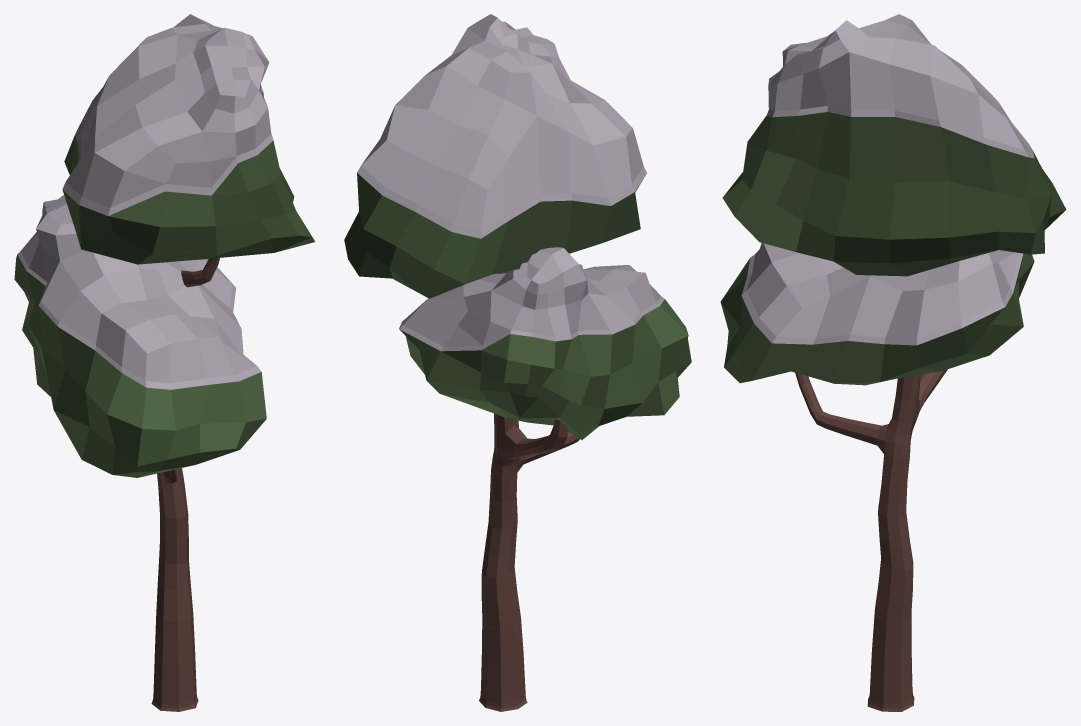
Rendered from CommonTree_Snow_3.gltf.
3 views of the same model, side by side, from view 1: azimuth 30°, elevation 25°; view 2: azimuth 150°, elevation 25°; view 3: azimuth 270°, elevation 25° (orthographic). The views are drawn at different scales.
Parts seen in each view (by area): view 1: CommonTree_Snow_3; view 2: CommonTree_Snow_3; view 3: CommonTree_Snow_3.
Part boxes in pixels (bbox=[...]): CommonTree_Snow_3: bbox=[14, 14, 315, 711]; CommonTree_Snow_3: bbox=[344, 14, 691, 711]; CommonTree_Snow_3: bbox=[720, 14, 1066, 711].
Size of the model in its own units: 1.28 by 3.47 by 1.56.
